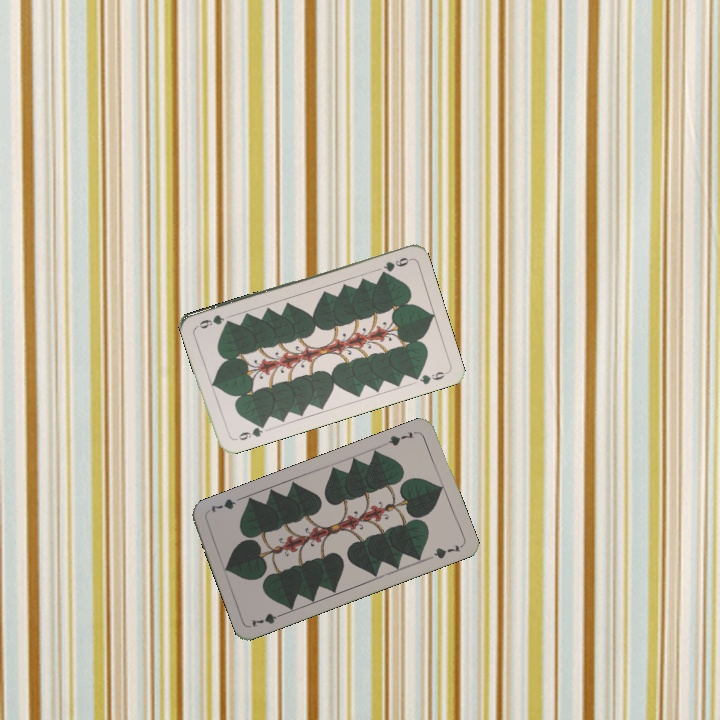G7: (247, 609, 287, 630), (381, 428, 416, 448)
G9: (229, 420, 267, 443), (380, 253, 413, 274)
